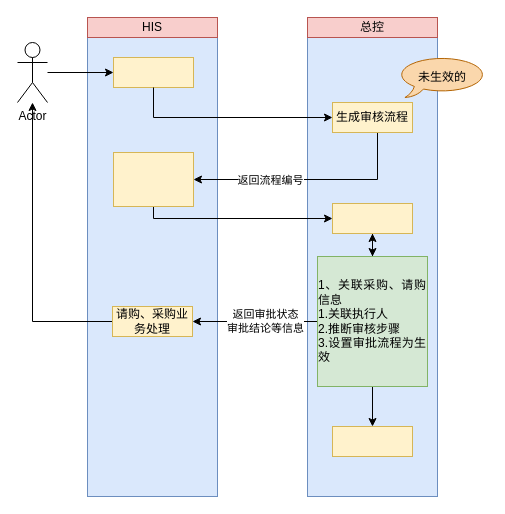
This 505x514 diagram has some shape labels left out. The centre of each missing label's shape, as x and y in pixels:
"发起审批后置事件" belongs at [372,441].
"发起请购/采购记录" belongs at [153,72].
"申请发起审批" belongs at [372,218].
"请购、采购记录关联流程编号" belongs at [153,179].
